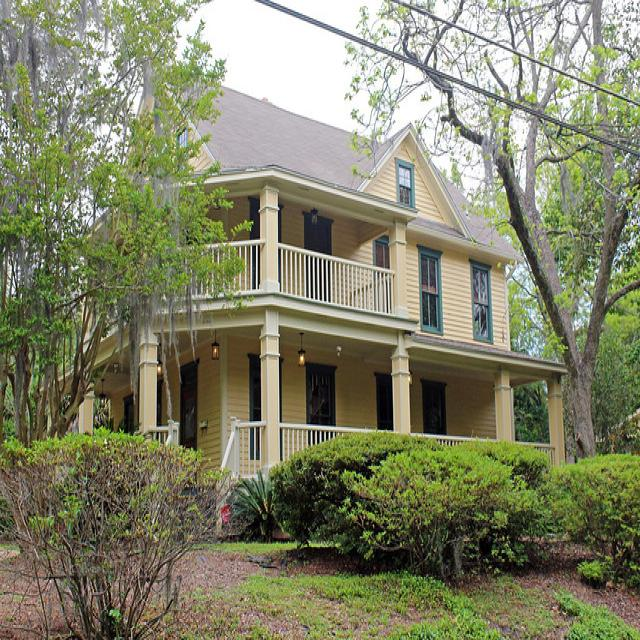building: (56, 52, 572, 542)
